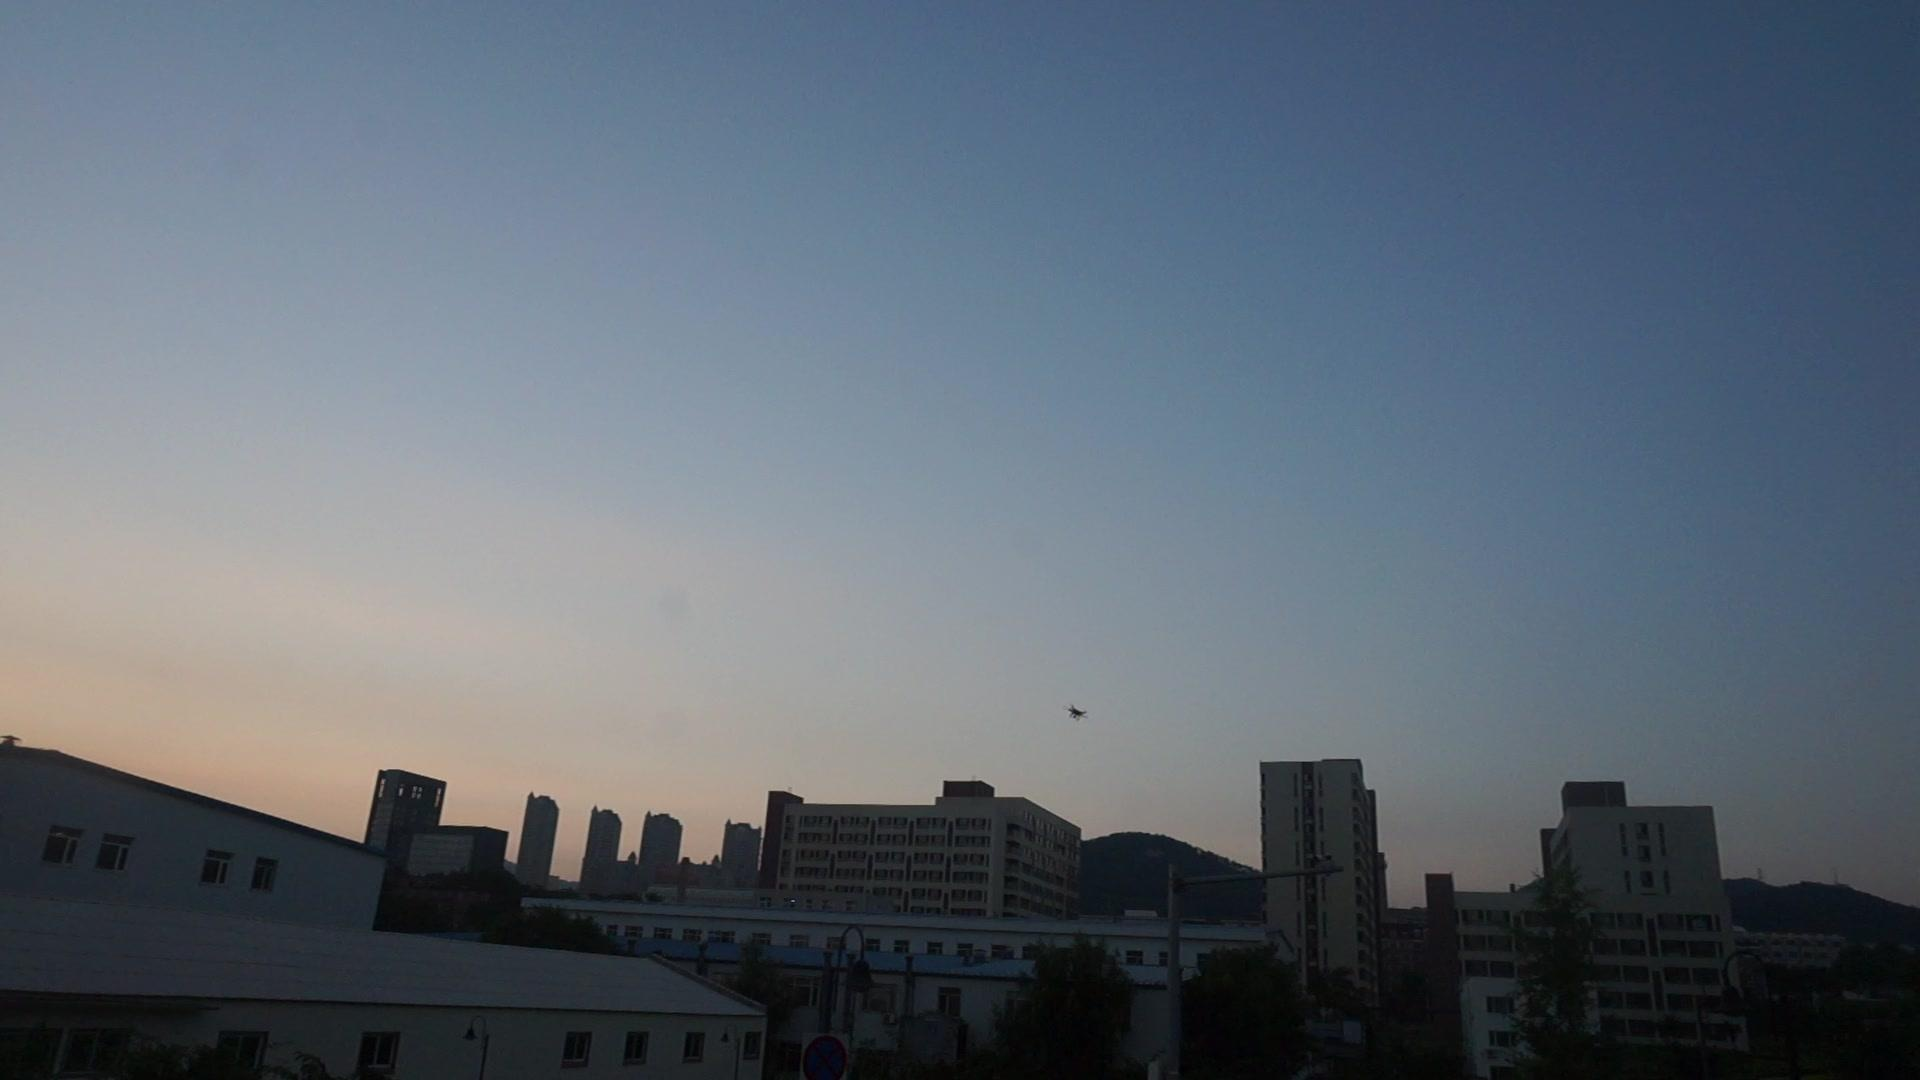UAV: (1064, 704, 1089, 723)
